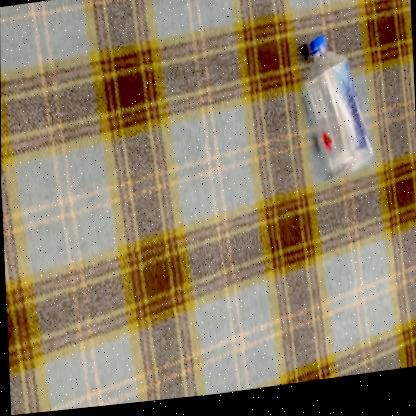Plastic: (303, 42, 372, 185)
